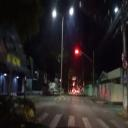NoEstacionar: (122, 59, 128, 69)
